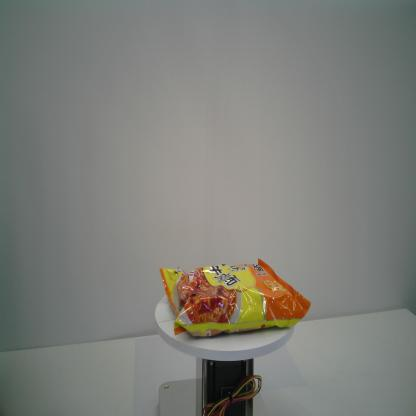Instant Noodles: (157, 256, 313, 342)
